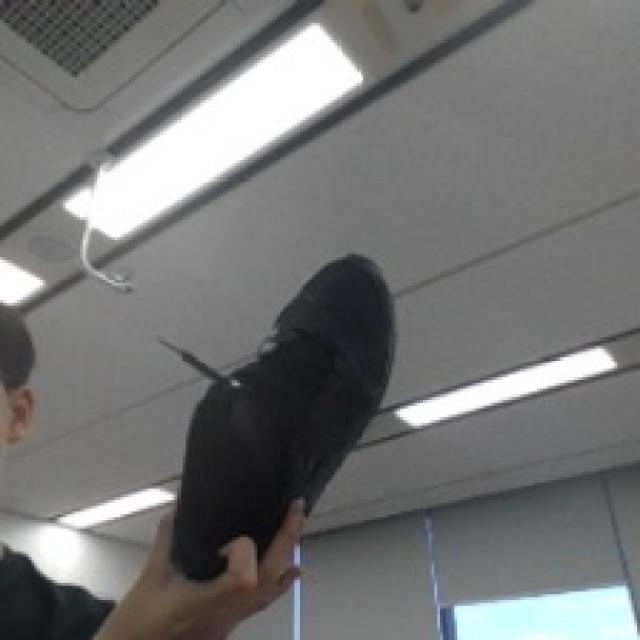shoe: (184, 231, 409, 534)
